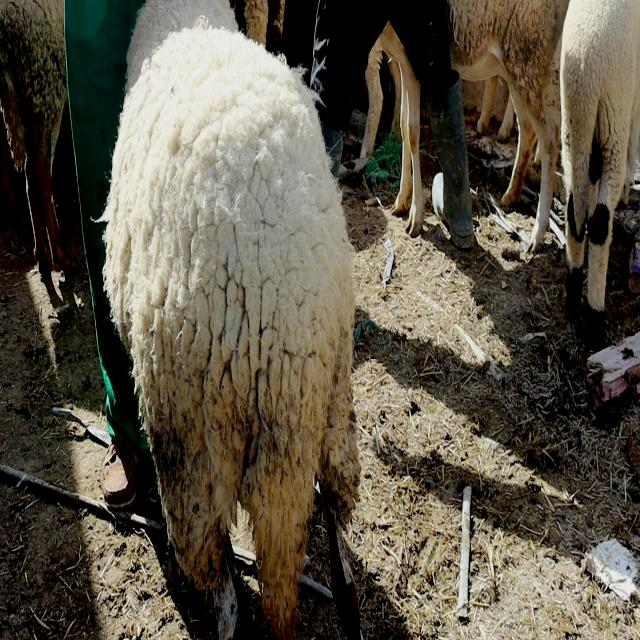Score_3: (100, 0, 361, 639)
